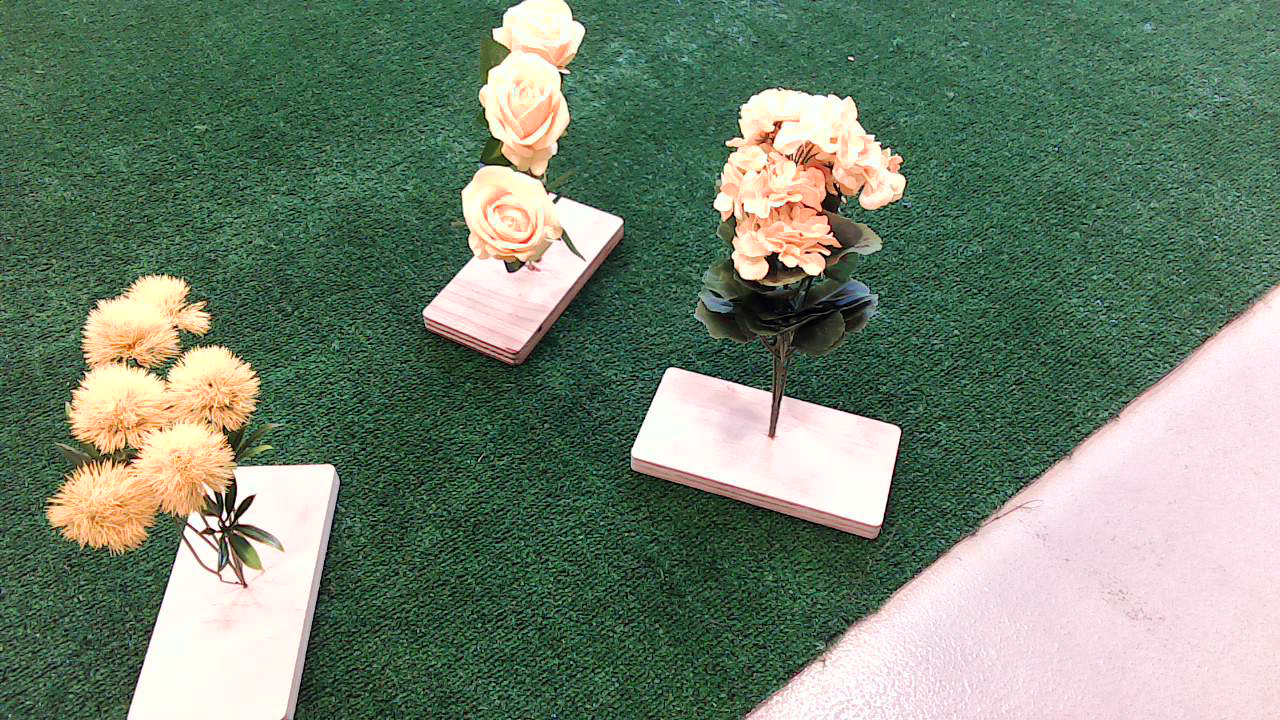dandelion: (36, 275, 314, 592)
geranium: (700, 61, 923, 373)
rose: (434, 5, 614, 280)
